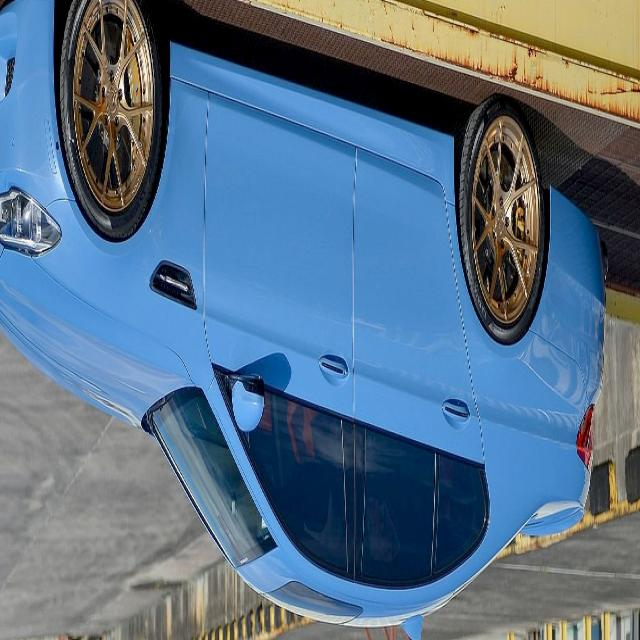blue: (8, 0, 639, 628)
